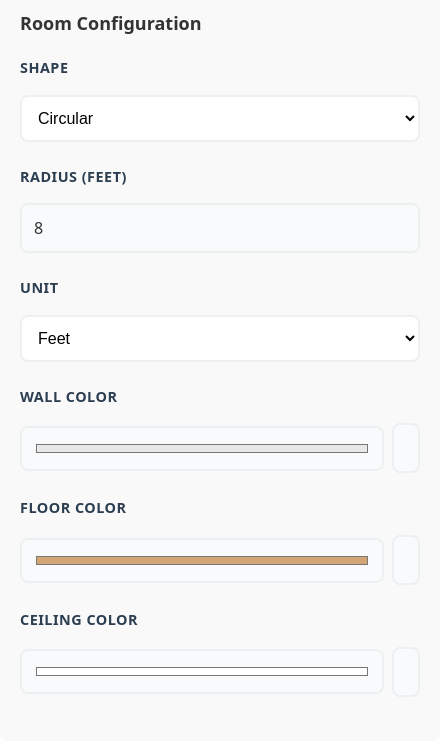
Test: RoomConfigPanel › Shape selector › changes dimension inputs when shape changes from circular to rectangular
// Change to rectangular
Select "Rectangular" in the dropdown labelled "Shape" at coordinates (220, 118), box left=20, top=95, right=420, bottom=142
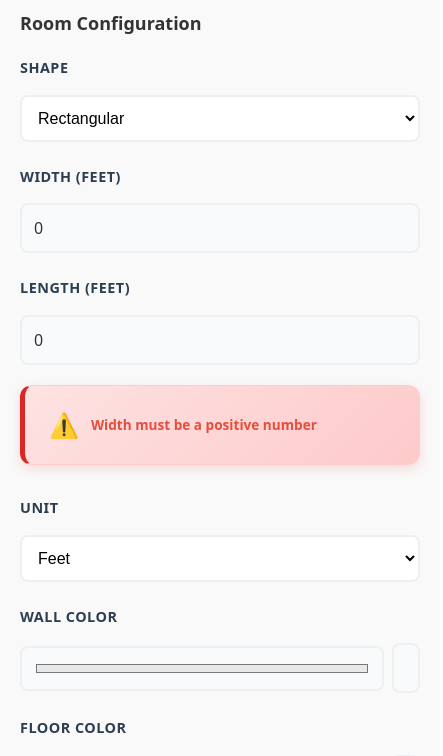
Expected: the number field labelled "Width (feet)" is shown, left=20, top=203, right=420, bottom=253
Expected: the number field labelled "Length (feet)" is shown, left=20, top=315, right=420, bottom=365
Expected: the label labelled "Radius" is gone
